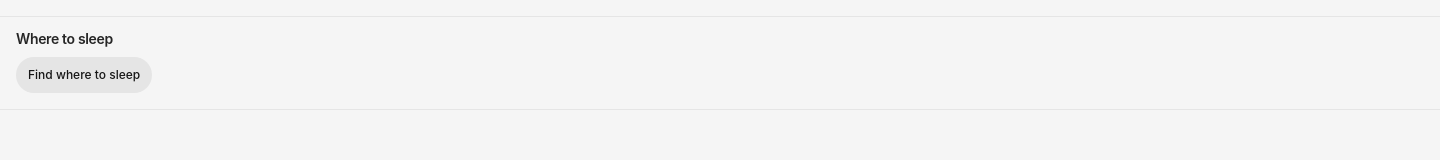
OvernightSection › says nothing was found when the look succeeds but finds none
Click the button with test id "overnight-row-fill" at (84, 75), box [16,57,152,93]
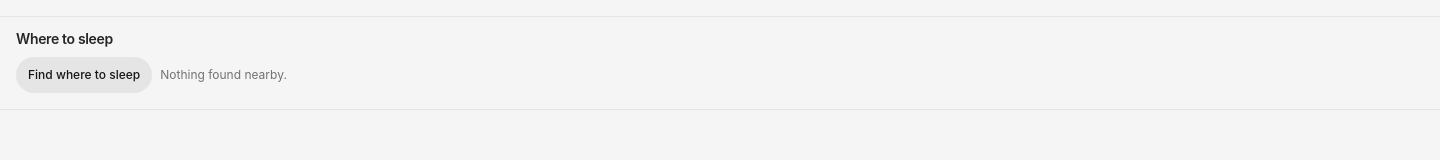
Now the text "Nothing found nearby." is shown, box [160,67,287,83]
